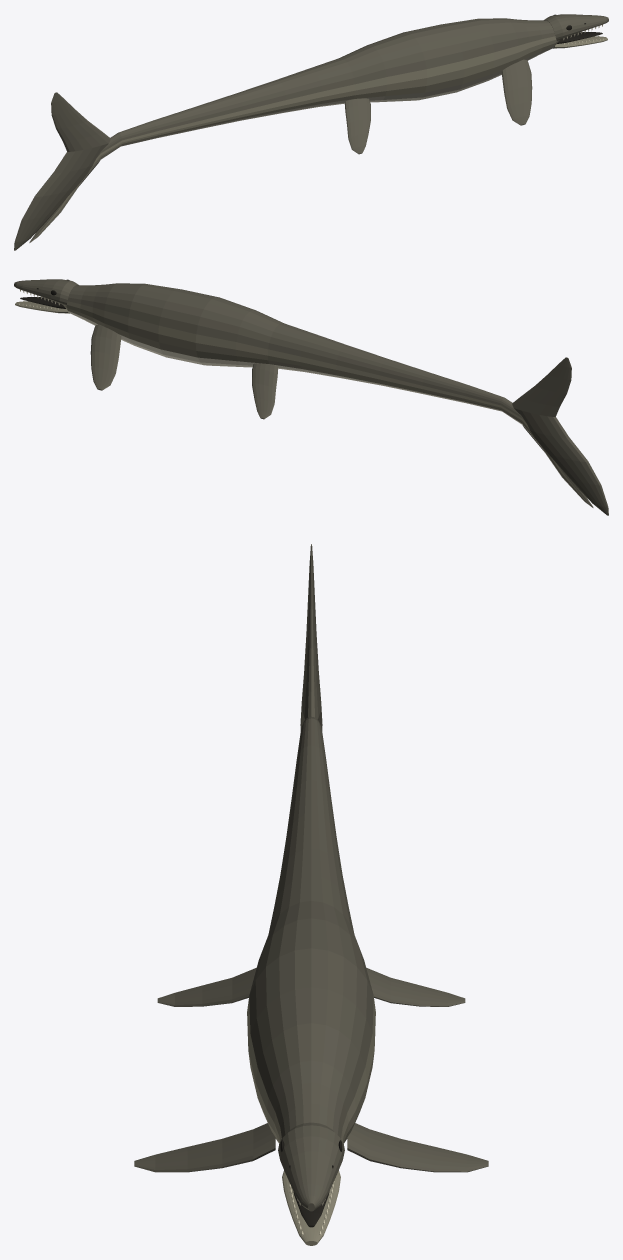
3 views of the same model, one above another, from view 1: azimuth 30°, elevation 25°; view 2: azimuth 150°, elevation 25°; view 3: azimuth 270°, elevation 25° (orthographic). The views are drawn at different scales.
Visible parts, largest first — view 1: Regionalized_trunk_and_downturned_tail, Vertical_caudal_fin_with_downturned_lower_support, Broad_forepaddle_near, Broad_hindpaddle_near, Short_rounded_upper_head, Modestly_open_lower_jaw; view 2: Regionalized_trunk_and_downturned_tail, Vertical_caudal_fin_with_downturned_lower_support, Broad_forepaddle_far, Broad_hindpaddle_far, Short_rounded_upper_head, Modestly_open_lower_jaw; view 3: Regionalized_trunk_and_downturned_tail, Short_rounded_upper_head, Broad_forepaddle_far, Broad_forepaddle_near, Vertical_caudal_fin_with_downturned_lower_support, Broad_hindpaddle_far, Broad_hindpaddle_near, Modestly_open_lower_jaw.
Boxes of the visible parts, bbox=[...] form: Regionalized_trunk_and_downturned_tail: bbox=[29, 18, 559, 242]; Vertical_caudal_fin_with_downturned_lower_support: bbox=[14, 92, 110, 250]; Broad_forepaddle_near: bbox=[501, 59, 532, 125]; Broad_hindpaddle_near: bbox=[344, 98, 370, 154]; Short_rounded_upper_head: bbox=[544, 14, 608, 40]; Modestly_open_lower_jaw: bbox=[553, 36, 607, 48]; Regionalized_trunk_and_downturned_tail: bbox=[63, 283, 593, 507]; Vertical_caudal_fin_with_downturned_lower_support: bbox=[512, 357, 608, 515]; Broad_forepaddle_far: bbox=[90, 324, 121, 390]; Broad_hindpaddle_far: bbox=[252, 363, 278, 419]; Short_rounded_upper_head: bbox=[14, 279, 78, 305]; Modestly_open_lower_jaw: bbox=[15, 301, 69, 313]; Regionalized_trunk_and_downturned_tail: bbox=[247, 716, 375, 1143]; Short_rounded_upper_head: bbox=[278, 1122, 344, 1211]; Broad_forepaddle_far: bbox=[347, 1123, 488, 1172]; Broad_forepaddle_near: bbox=[134, 1123, 275, 1172]; Vertical_caudal_fin_with_downturned_lower_support: bbox=[300, 544, 322, 730]; Broad_hindpaddle_far: bbox=[366, 968, 465, 1006]; Broad_hindpaddle_near: bbox=[157, 968, 256, 1006]; Modestly_open_lower_jaw: bbox=[282, 1170, 340, 1245].
Size of the model in its own units: 5.54 by 1.31 by 1.43.
